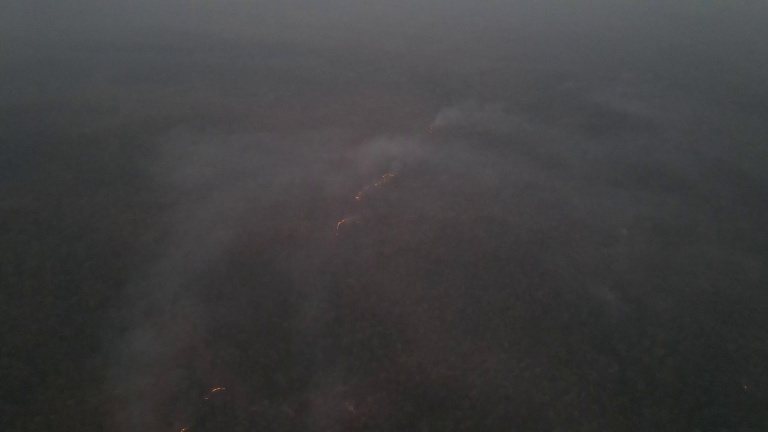fire: (353, 166, 401, 203), (203, 383, 229, 401), (330, 218, 347, 236)
smoke: (347, 132, 447, 168)
